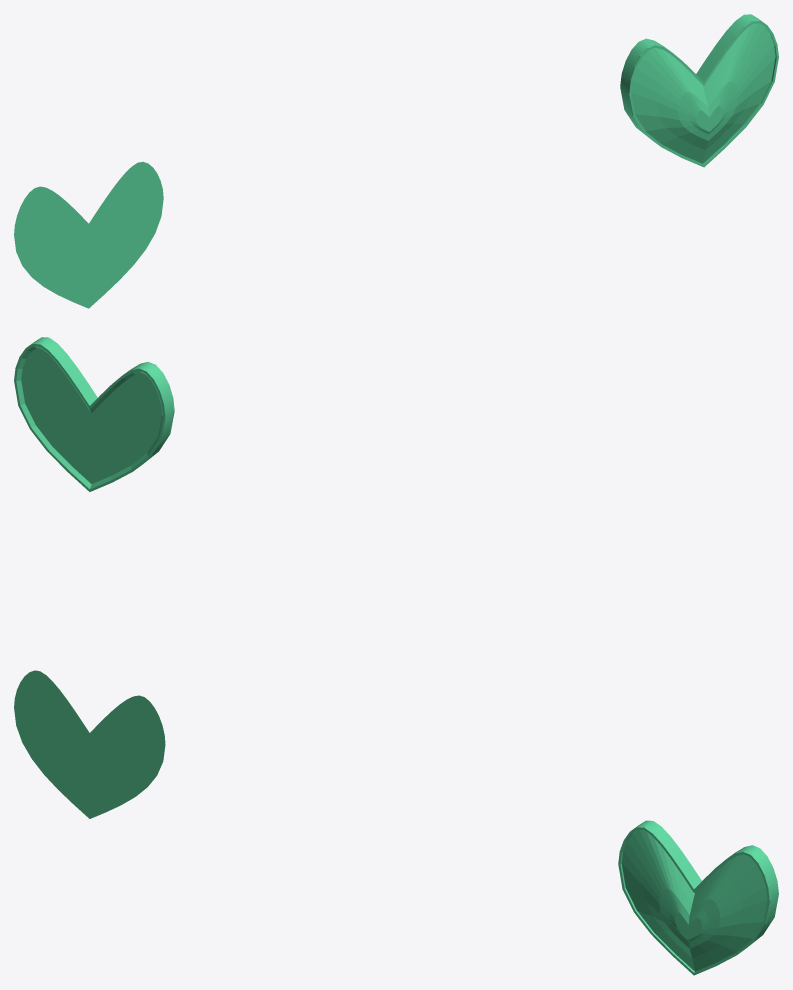
The model's file is heart.glb.
The picture shows the model from 3 angles, top to bottom: view 1: azimuth 30°, elevation 25°; view 2: azimuth 150°, elevation 25°; view 3: azimuth 330°, elevation 25°; orthographic projection.
Visible parts, largest first — view 1: Circle001, Circle002; view 2: Circle001; view 3: Circle001, Circle002.
Boxes of the visible parts, x1,y1,x2,y2 form: Circle001: (620,14,778,167); Circle002: (14,162,163,308); Circle001: (14,337,174,491); Circle001: (618,820,778,975); Circle002: (14,670,165,818).
Bounding box in the file's own units: 14 × 2.37 × 0.4663.
